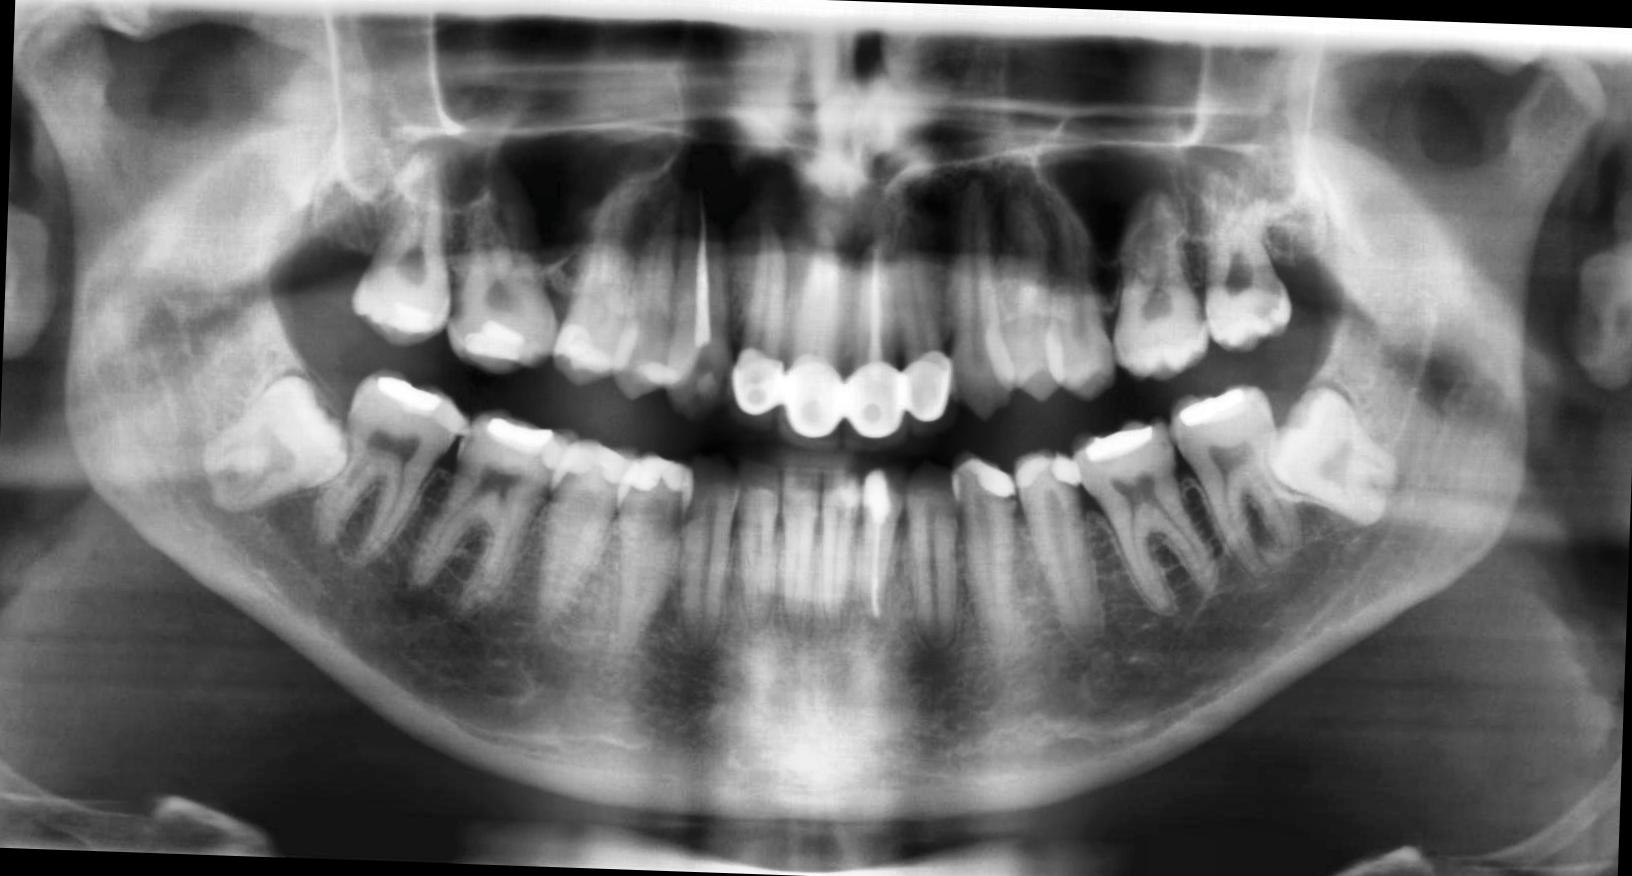radicular: (611, 109, 827, 265)
